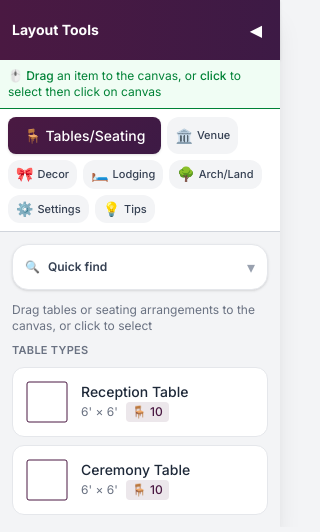
Test: Sidebar cross-role visibility for category-restricted items › admin sees all category-restricted items regardless of current venue category
Check: the text "Reception Table" is shown, box x1=81 y1=382 x2=188 y2=402
Check: the text "Ceremony Table" is shown, box x1=81 y1=460 x2=190 y2=480
Click the button titled "Venue" at (203, 136), box x1=167 y1=117 x2=238 y2=154
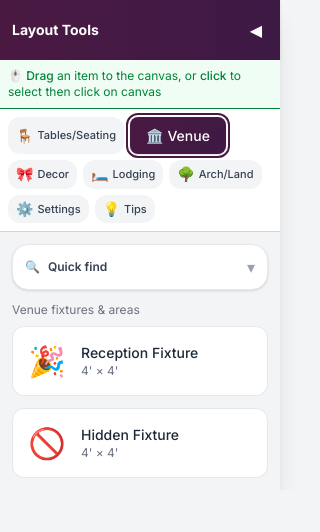
Check: the text "Reception Fixture" is shown, box x1=81 y1=343 x2=198 y2=363
Check: the text "Hidden Fixture" is shown, box x1=81 y1=425 x2=179 y2=445
